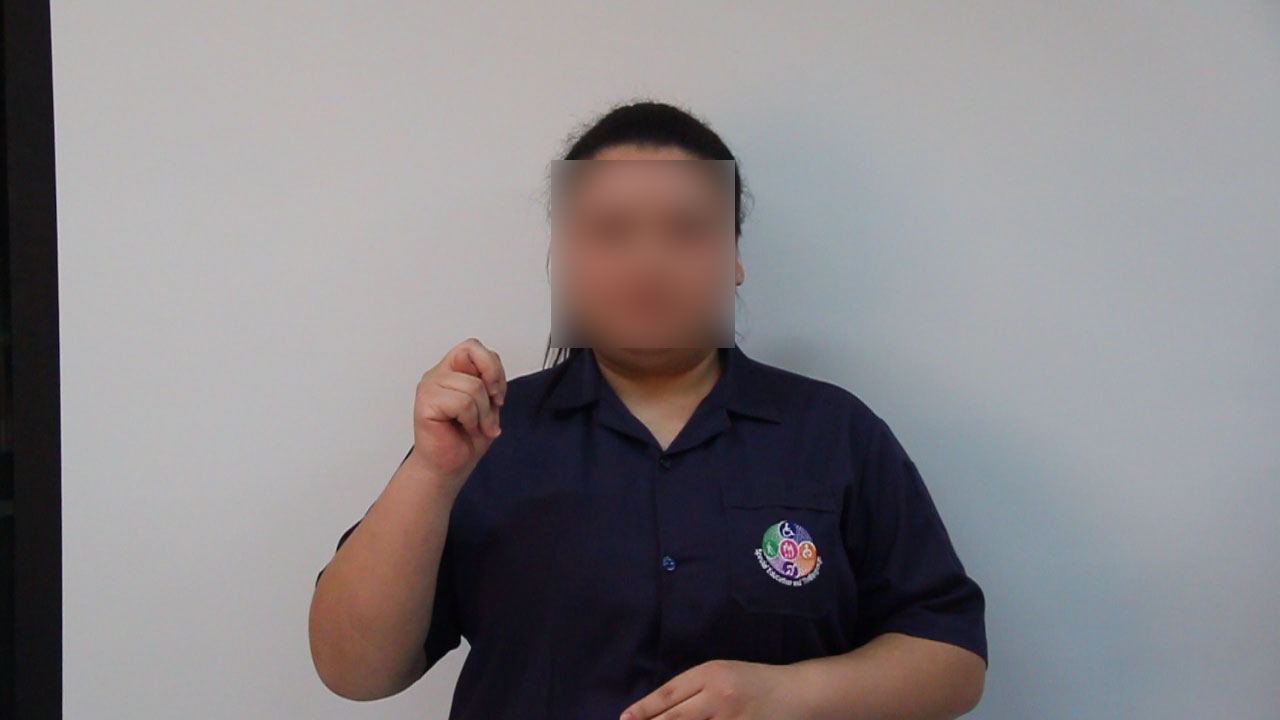nor: (391, 330, 523, 470)
